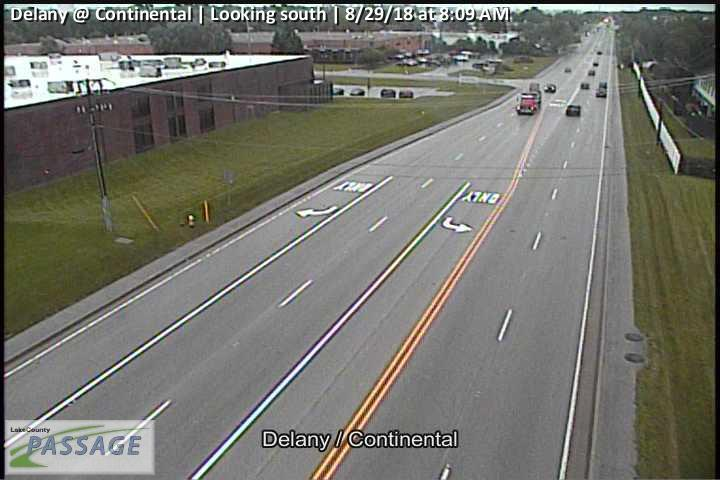Sedan: (567, 104, 580, 115), (544, 85, 557, 92)
Truck: (517, 91, 541, 113)
